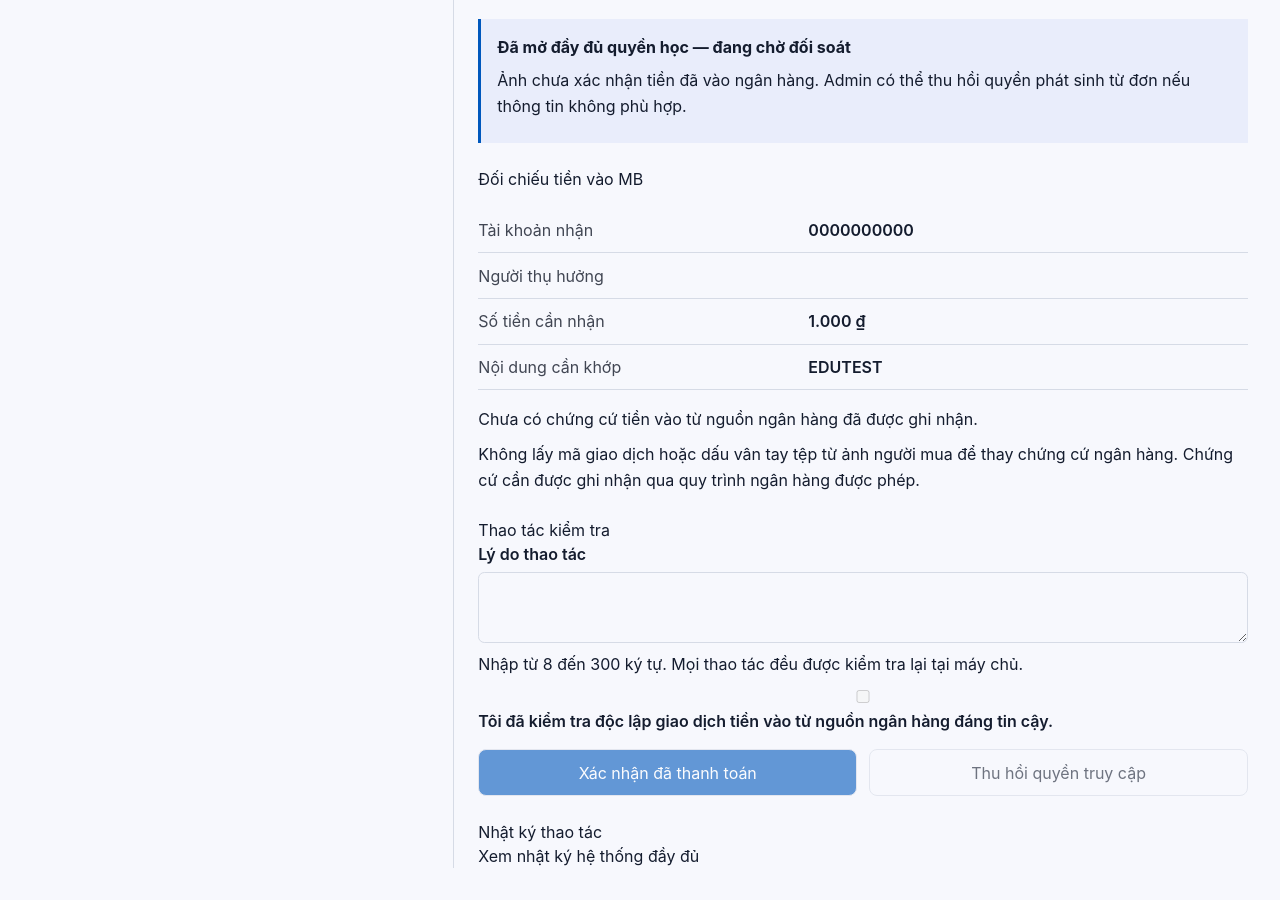
Test: Admin receipt review › requires reason and explicit confirmation before exact-source revocation
(page scrolled)
Check: the button "Thu hồi quyền truy cập" is disabled, box [869, 749, 1248, 796]
In the text box labelled "Lý do thao tác": (863, 607) [478, 572, 1248, 643], type "Đã kiểm tra thông tin không khớp"
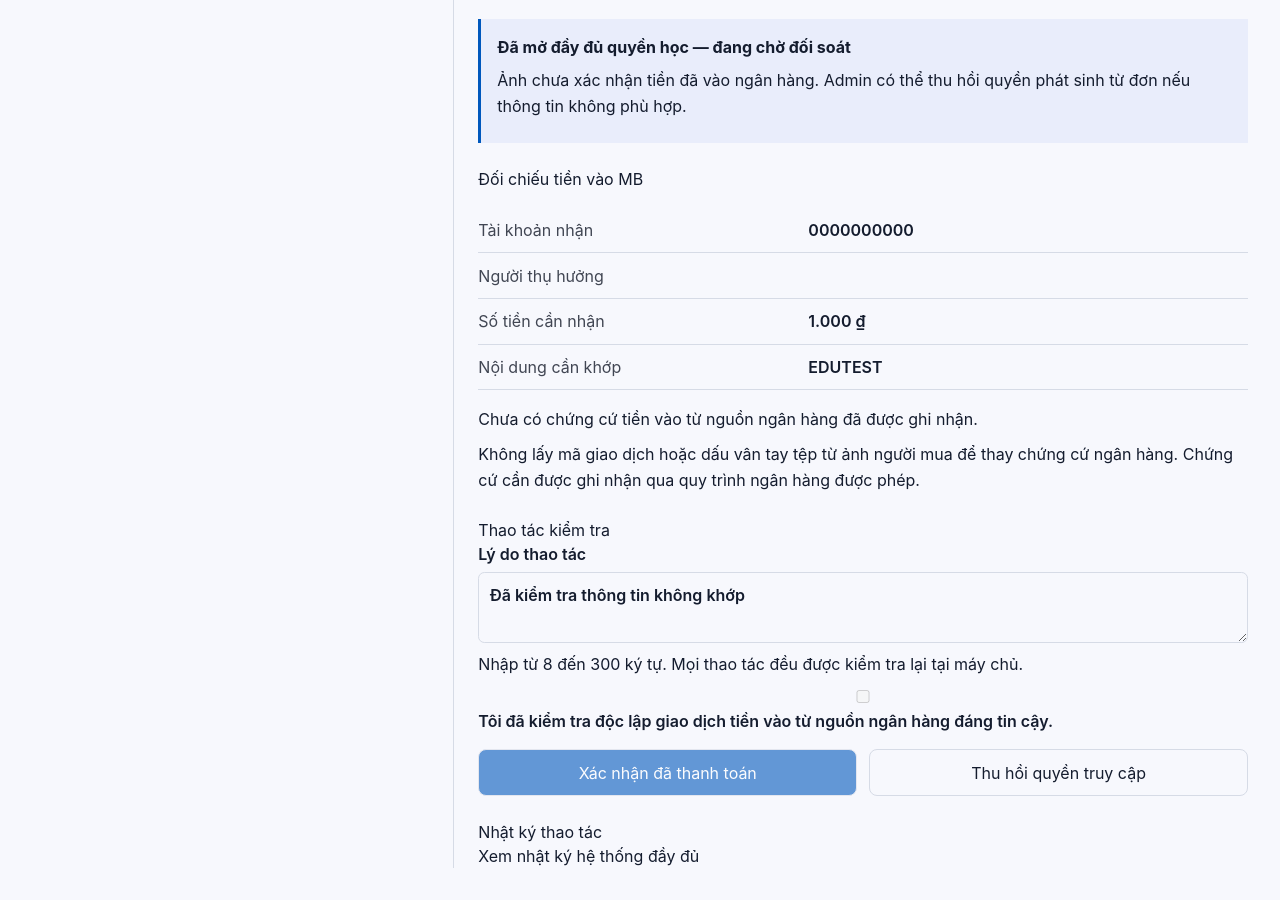
Click the button "Thu hồi quyền truy cập": (1059, 773) [869, 749, 1248, 796]
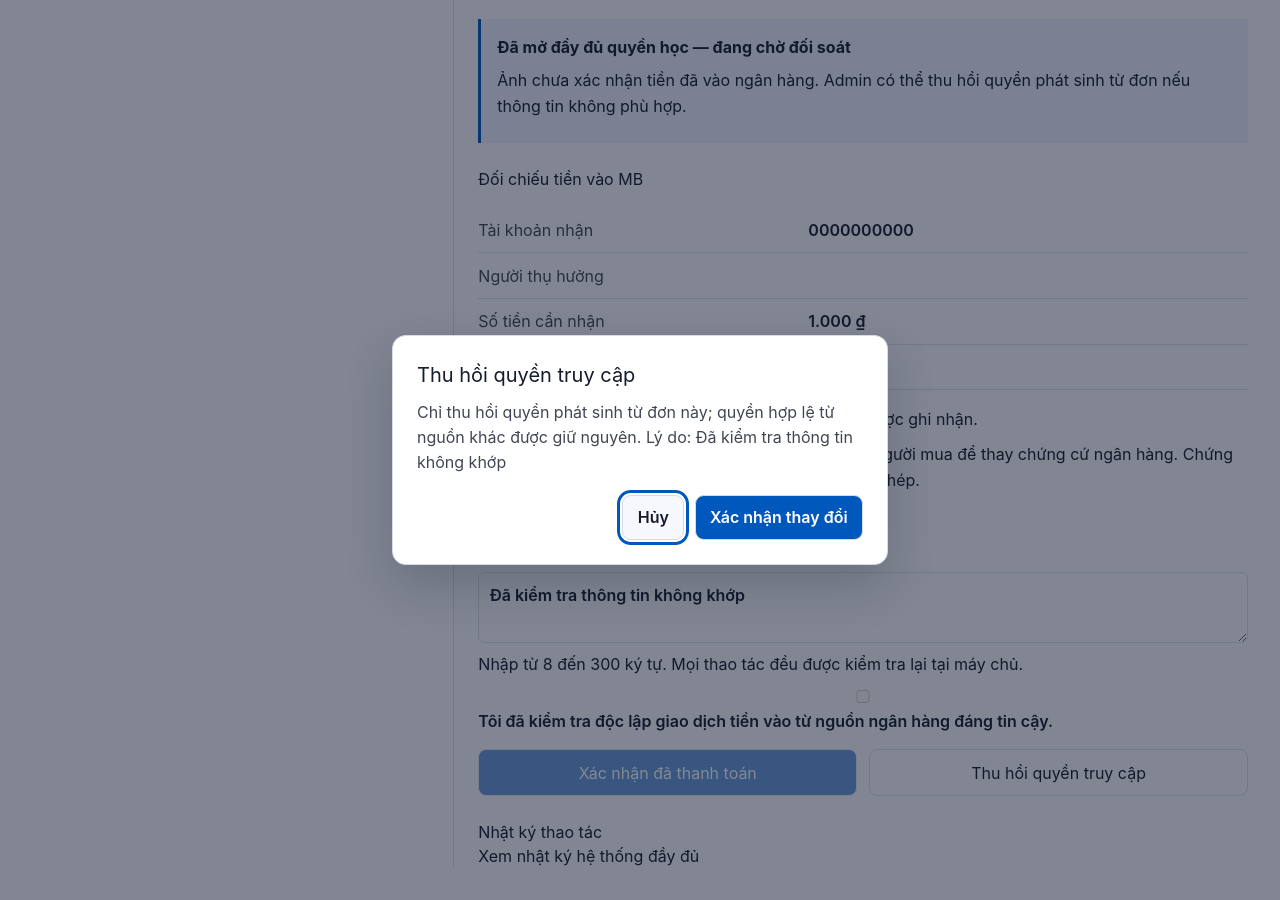
Click the button "Xác nhận thay đổi": (779, 517) [695, 495, 863, 540]
(page scrolled)
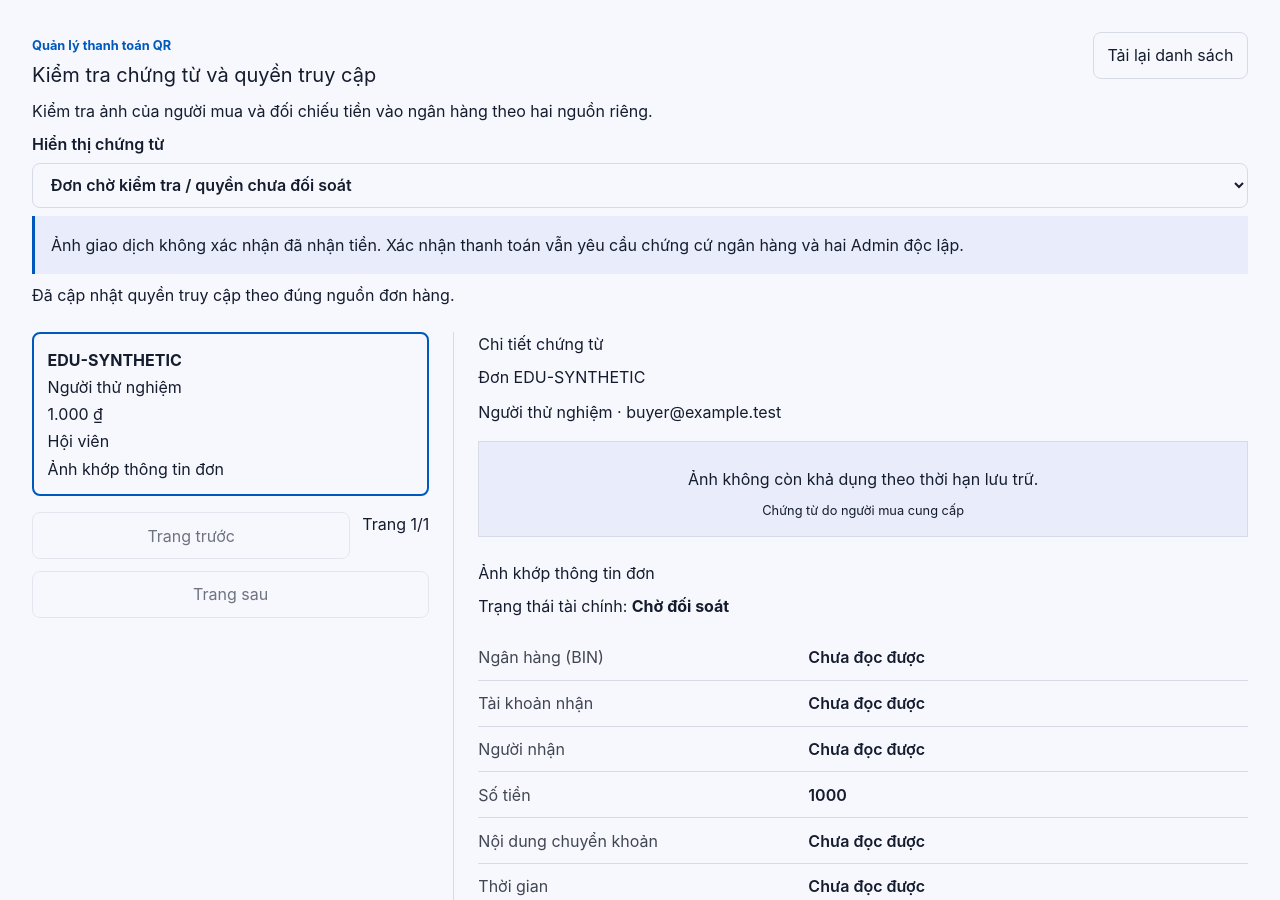
Check: the text "Đã cập nhật quyền truy cập theo đúng nguồn đơn hàng." is shown, box [32, 285, 454, 305]
